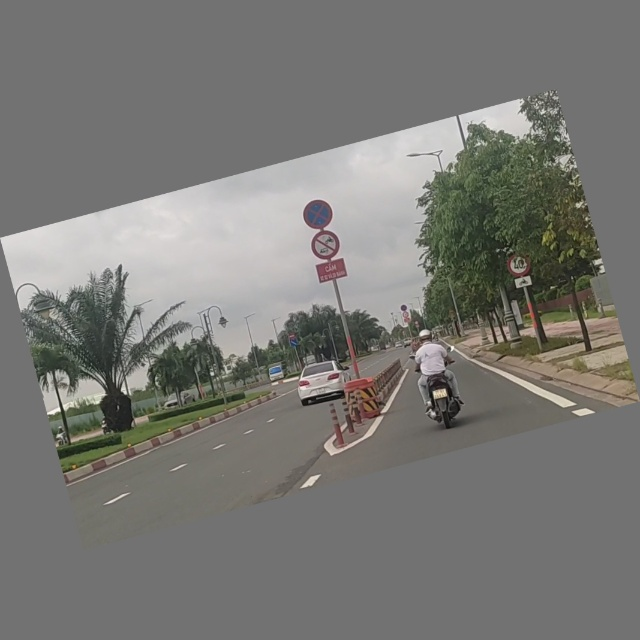P.111: (307, 227, 343, 262)
P.127*40: (505, 252, 534, 280)
P.130: (299, 194, 336, 234)
S.505a*Xe may: (513, 274, 533, 291)
